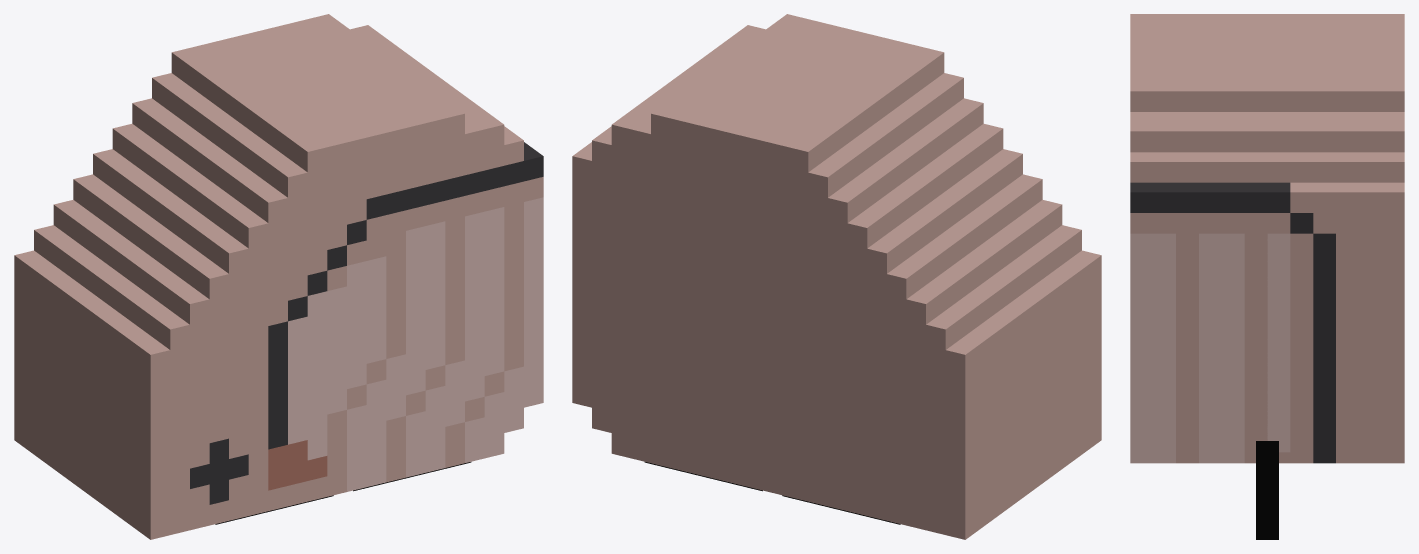
Rendered from whale.glb.
3 views of the same model, side by side, from view 1: azimuth 30°, elevation 25°; view 2: azimuth 150°, elevation 25°; view 3: azimuth 270°, elevation 25° (orthographic).
Parts seen in each view (by area): view 1: base, mouth, eye; view 2: base; view 3: base, glasses, mouth.
Boxes of the visible parts, left/top/right/bottom form: base: left=14, top=14, right=543, bottom=539; mouth: left=268, top=148, right=543, bottom=449; eye: left=190, top=438, right=248, bottom=504; base: left=572, top=14, right=1101, bottom=539; base: left=1130, top=14, right=1404, bottom=463; glasses: left=1256, top=441, right=1278, bottom=539; mouth: left=1130, top=182, right=1152, bottom=212.
Bounding box in the file's own units: 20 × 20 × 12.
Materials: 10 (10 with a texture image).
